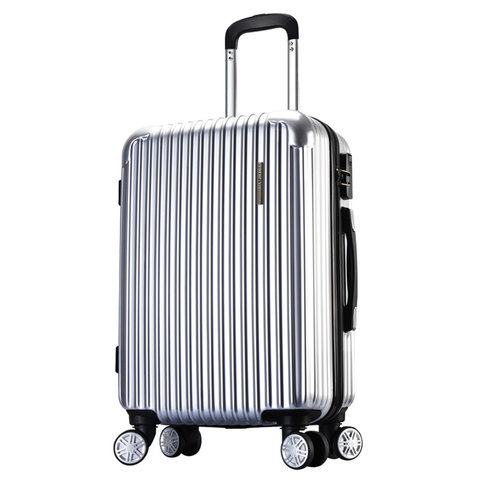luggage: (113, 13, 363, 471)
